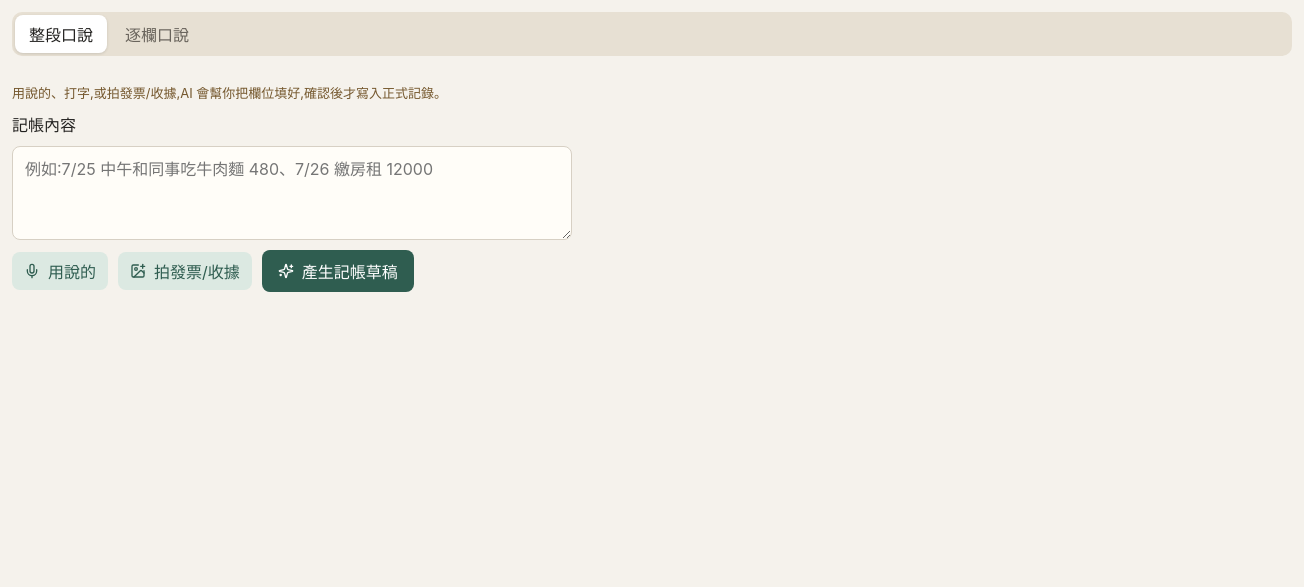
AiLedgerPanel › shows what the model recognized even when the draft is rejected
Type "7/25 中午和同事吃便當 480" into the text box labelled "記帳內容" at [292, 193], box [12,146,572,240]
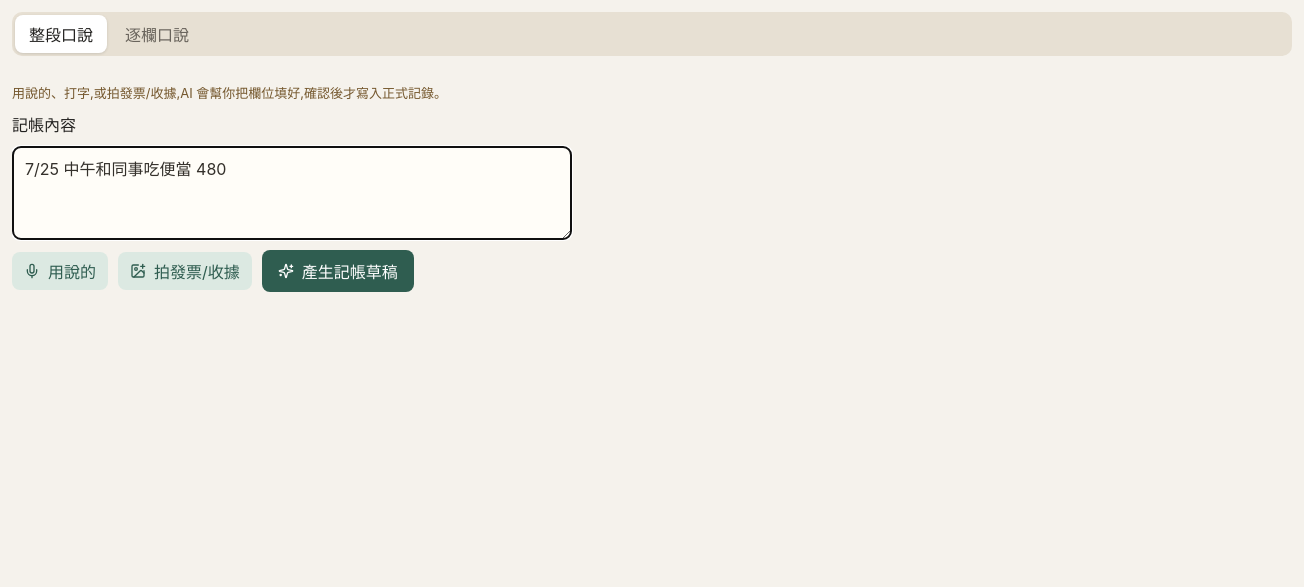
Click the button "產生記帳草稿" at [338, 271], box [262,250,414,292]
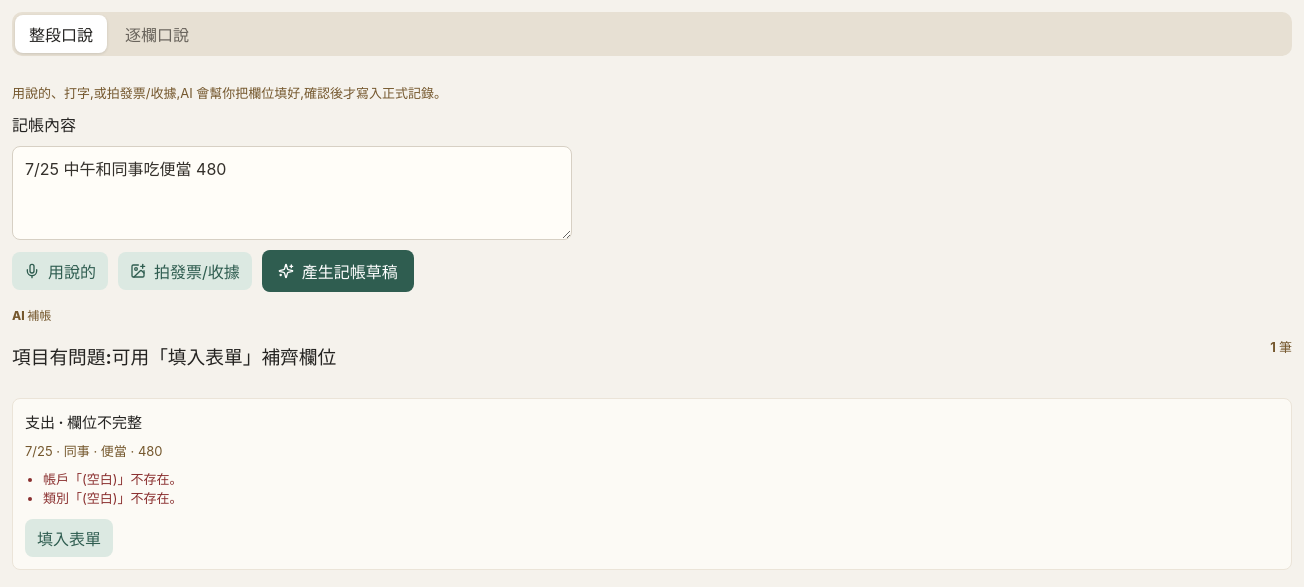
Expected: the text "7/25 · 同事 · 便當 · 480" is shown, [25,443,163,459]
Expected: the text "支出 · 欄位不完整" is shown, [25,413,142,432]
Expected: the list item "帳戶「(空白)」不存在。" is shown, [43,471,182,487]
